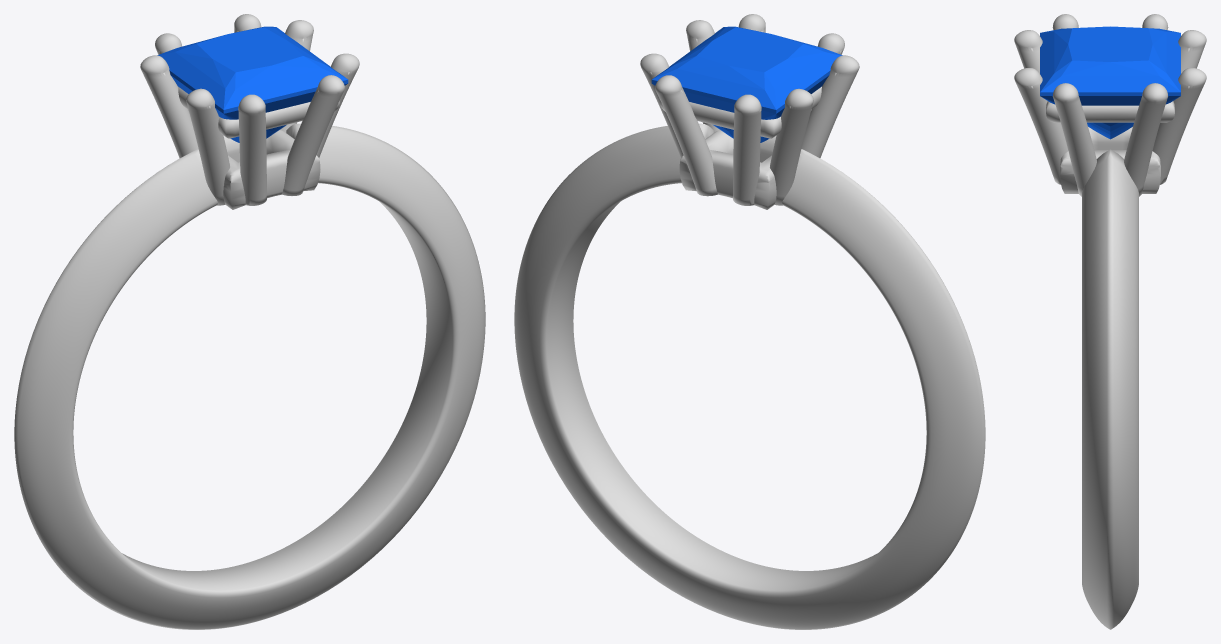
The model's file is bluesapphire-princess-platinum-8prong-knifeedge-solitaire.glb.
The picture shows the model from 3 angles, left to right: view 1: azimuth 30°, elevation 25°; view 2: azimuth 150°, elevation 25°; view 3: azimuth 270°, elevation 25°; orthographic projection. The views are drawn at different scales.
Parts seen in each view (by area): view 1: metal, stone; view 2: metal, stone; view 3: metal, stone.
Part boxes in pixels (left/top/right/bottom): metal: left=14, top=14, right=485, bottom=629; stone: left=157, top=26, right=348, bottom=142; metal: left=514, top=14, right=985, bottom=629; stone: left=651, top=26, right=842, bottom=142; metal: left=1014, top=14, right=1206, bottom=629; stone: left=1040, top=26, right=1180, bottom=139.
Size of the model in its own units: 20.51 by 23.85 by 7.42.
